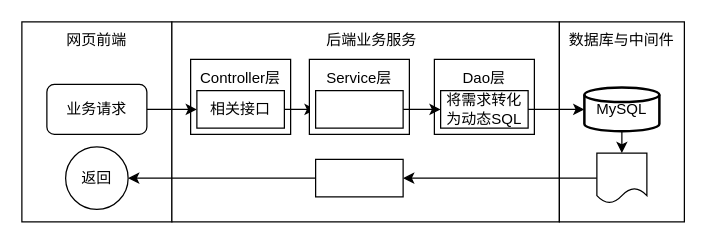
Image size: 706x244. Some labels were removed from this diagram. The centre of each missing label's shape, as x and y in pixels:
"执行 业务 逻辑" belongs at point (358, 108).
"数据" belongs at point (621, 177).
"格式转换" belongs at point (358, 177).
